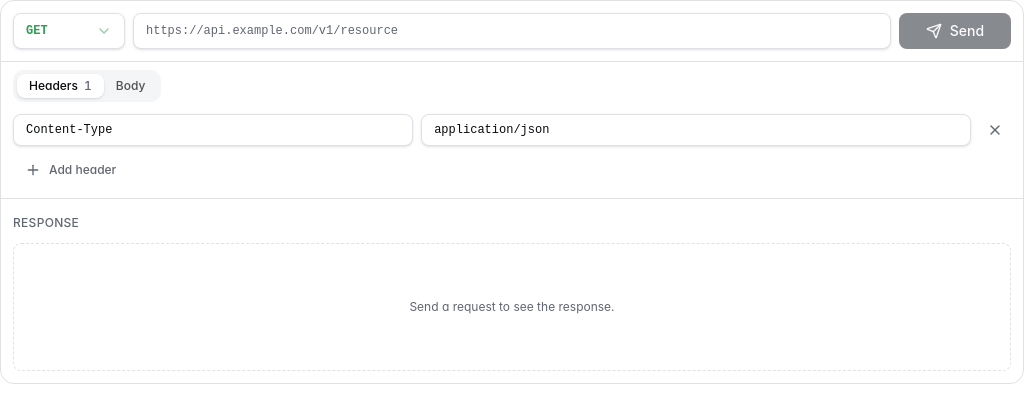
ApiRequestPlayground › disables Send until the URL is a valid http(s) URL
Expected: the button "Send" is disabled, [899,13,1011,49]
In the field named "Request URL": {"x": 512, "y": 31} [133,13,891,49], type "not a url"
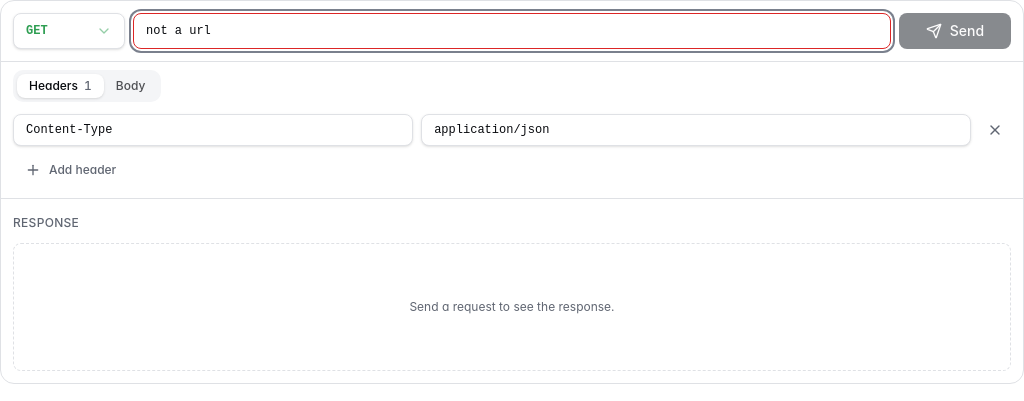
Expected: the button "Send" is disabled, [899,13,1011,49]
Replace the text in the field named "Request URL" with "https://api.acme.dev/v1/users": {"x": 512, "y": 31} [133,13,891,49]
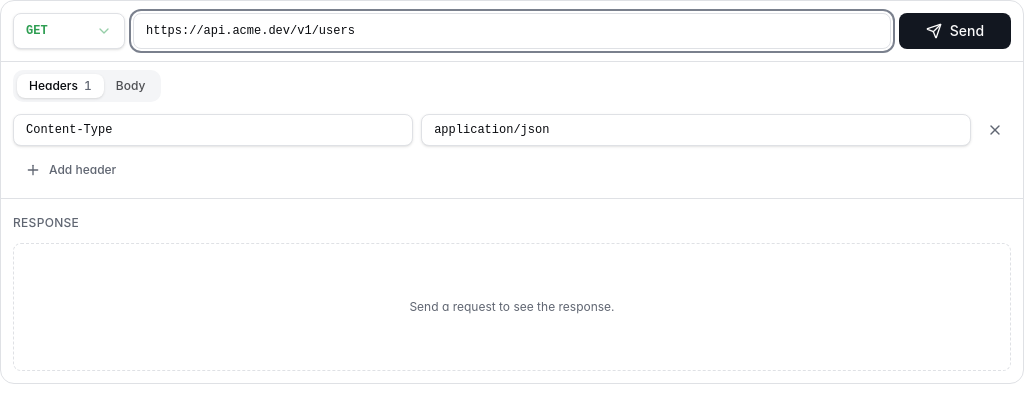
Expected: the button "Send" is enabled, [899,13,1011,49]
